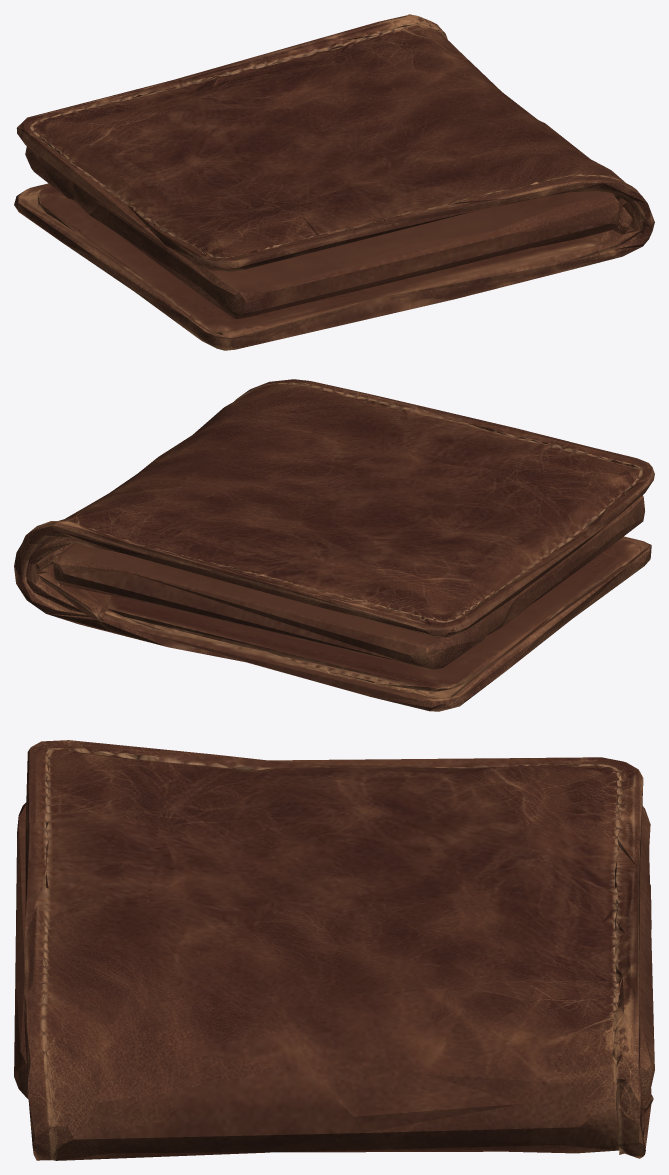
File: remeshed-wallet.glb
3 views of the same model, one above another, from view 1: azimuth 30°, elevation 25°; view 2: azimuth 150°, elevation 25°; view 3: azimuth 270°, elevation 25° (orthographic). The views are drawn at different scales.
Parts seen in each view (by area): view 1: output_unwrapped; view 2: output_unwrapped; view 3: output_unwrapped.
Boxes of the visible parts, x1=… form: output_unwrapped: x1=14, y1=14, x2=654, y2=350; output_unwrapped: x1=14, y1=379, x2=654, y2=711; output_unwrapped: x1=14, y1=740, x2=654, y2=1160.
Bounding box in the file's own units: 1.9 × 0.4008 × 1.65.
1 material, 1 textured.
